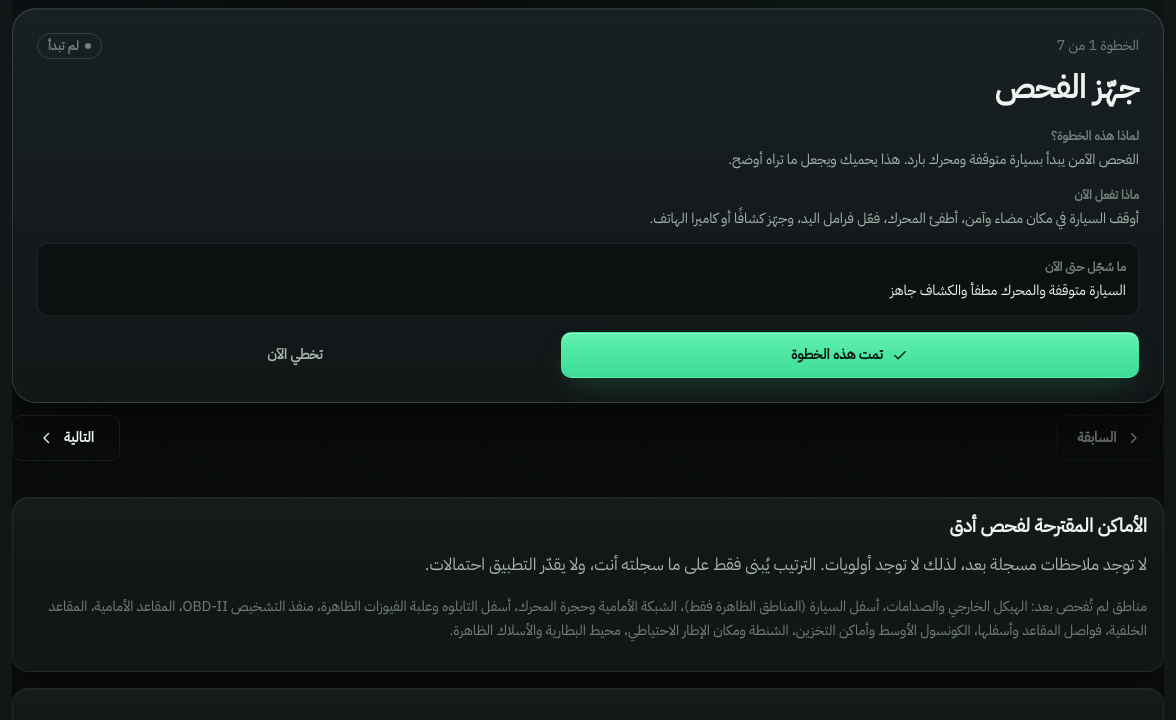
Test: dashboard journey › skips a step, can undo it, and browses with next/back
(page scrolled)
Expected: the element that starts with "الخطوة" is shown, [12,8,1164,403]
Click the button "تخطي الآن" at {"x": 295, "y": 355}, box [37,332,553,378]
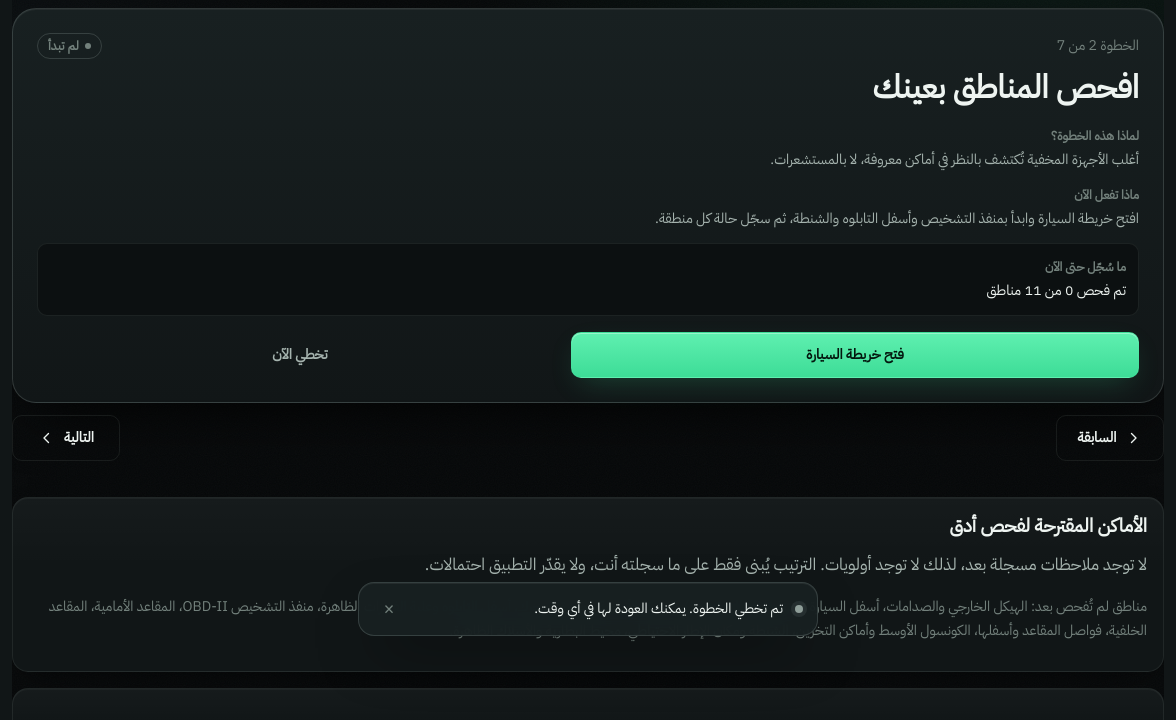
Click the button "السابقة" at {"x": 1110, "y": 438}, box [1056,415,1164,461]
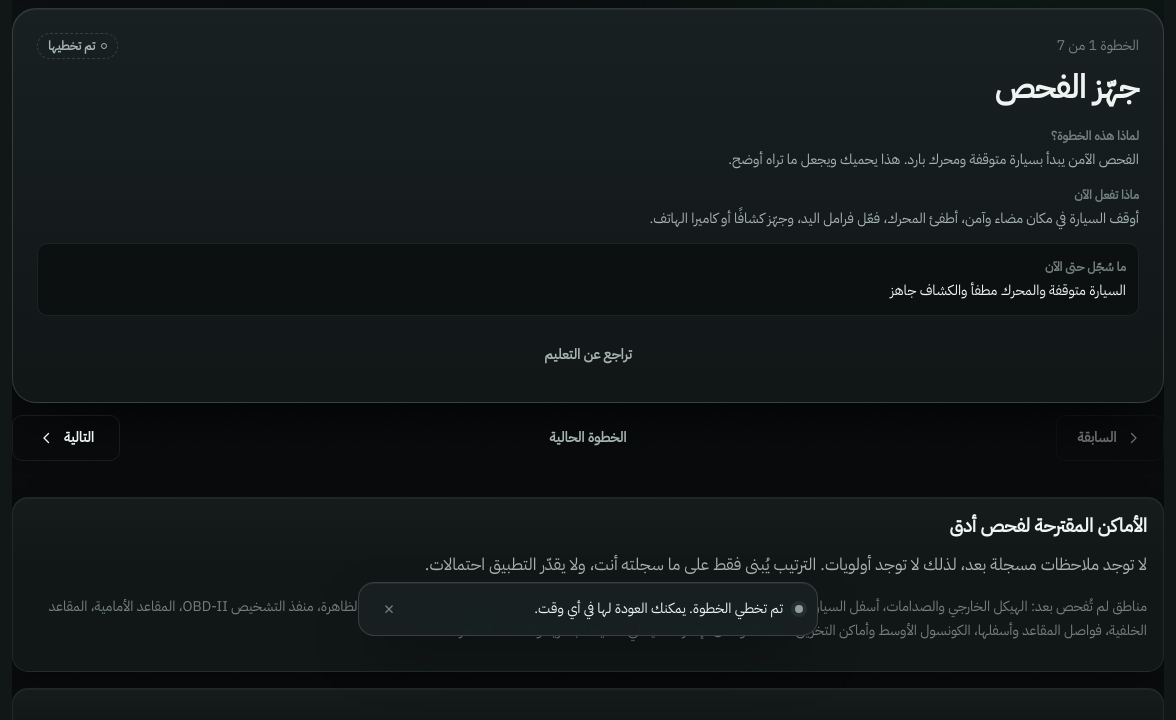
Now the heading "جهّز الفحص" is shown, box [995,63,1139,111]
Click the button "تراجع عن التعليم" at {"x": 588, "y": 355}, box [37,332,1139,378]
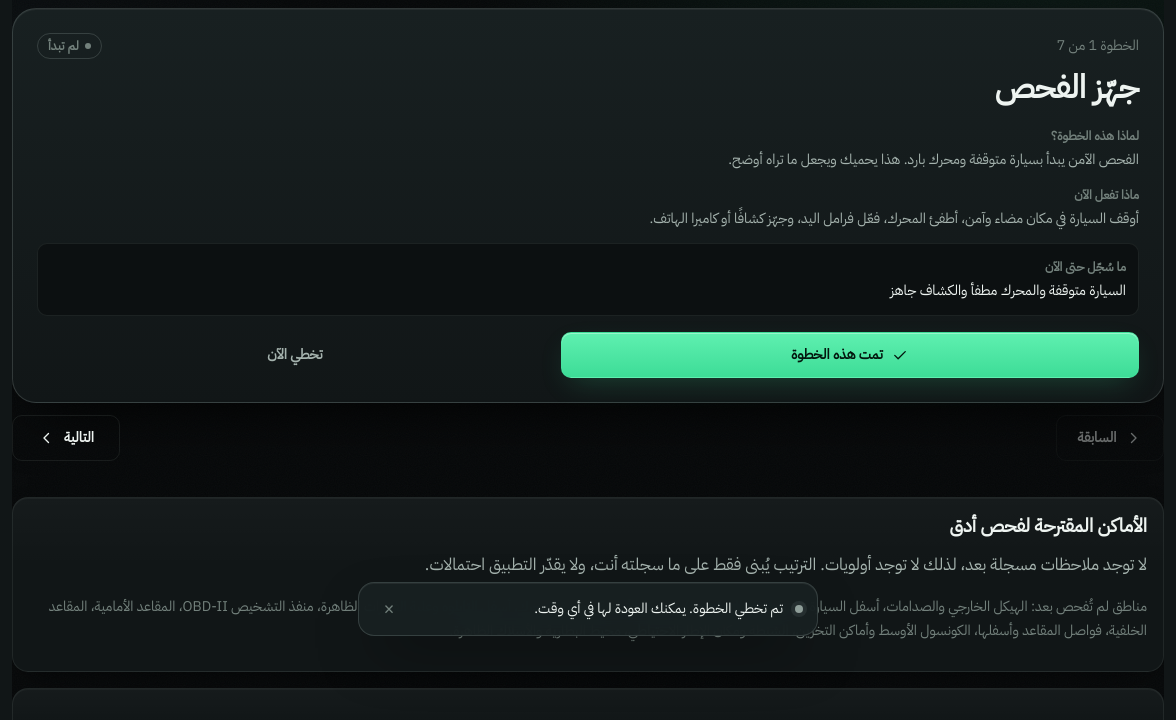
Click the button "التالية" at {"x": 66, "y": 438}, box [12,415,120,461]
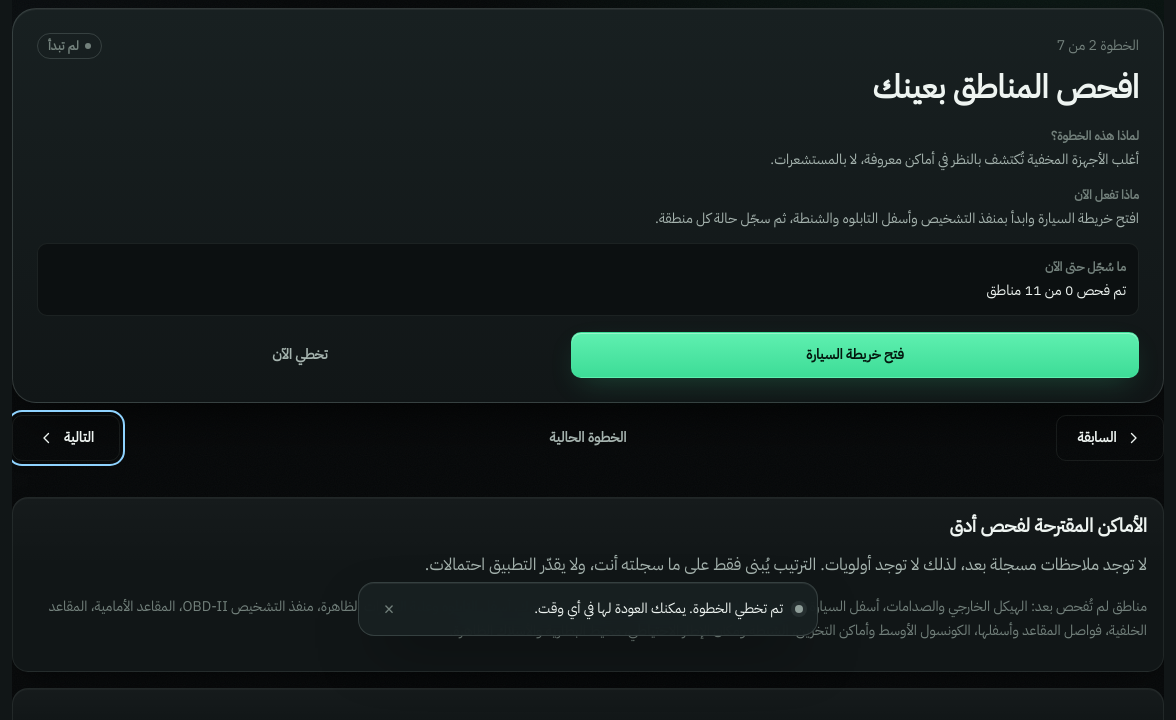
Now the heading "افحص المناطق بعينك" is shown, box [873,63,1139,111]
Click the button "الخطوة الحالية" at {"x": 588, "y": 438}, box [533,415,644,461]
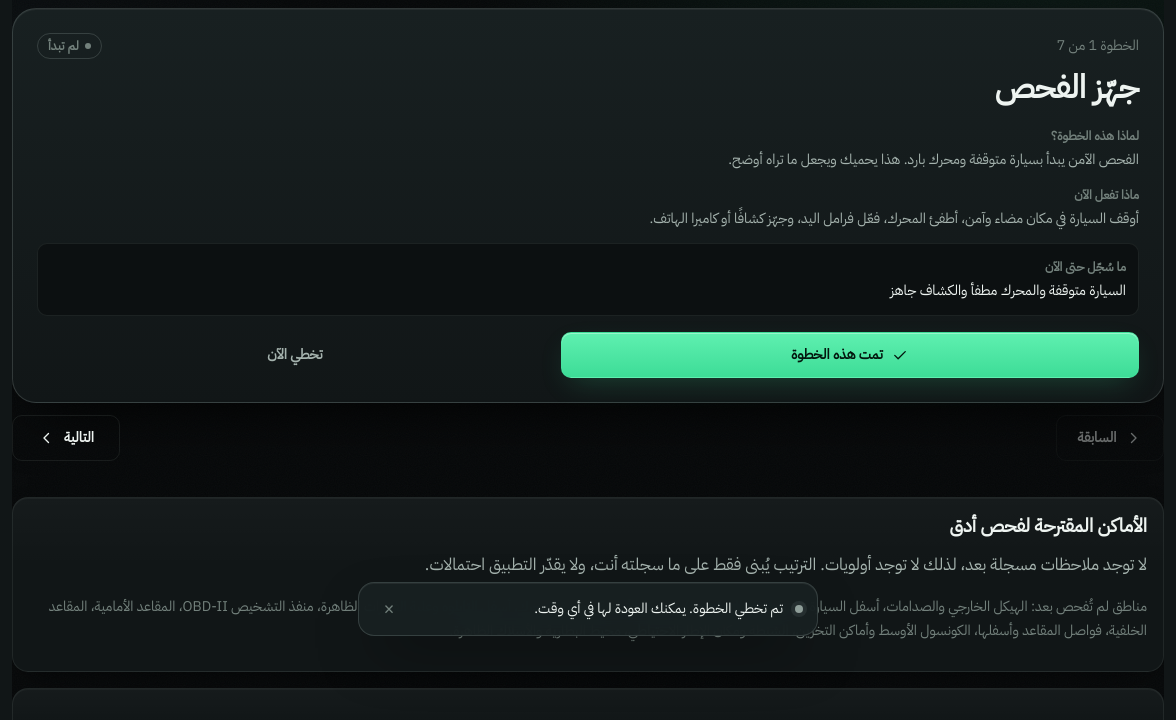
Now the heading "جهّز الفحص" is shown, box [995,63,1139,111]
